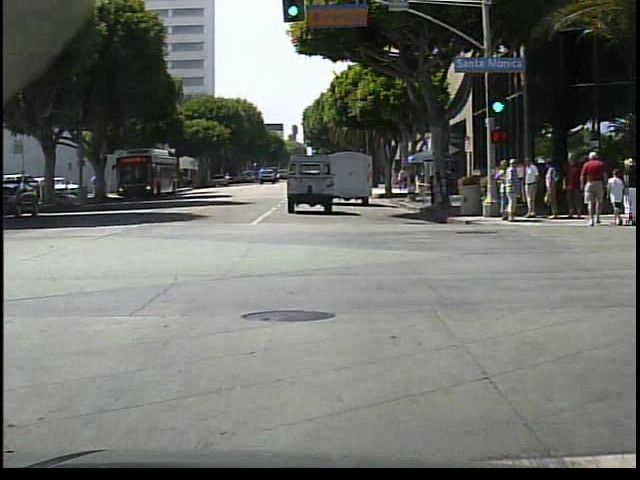person: (582, 147, 608, 231), (522, 157, 544, 225), (562, 150, 583, 219), (502, 158, 523, 225), (544, 160, 563, 224), (608, 165, 628, 225), (624, 157, 639, 226), (498, 161, 510, 223), (97, 176, 108, 201), (91, 174, 100, 198), (397, 170, 406, 193)
